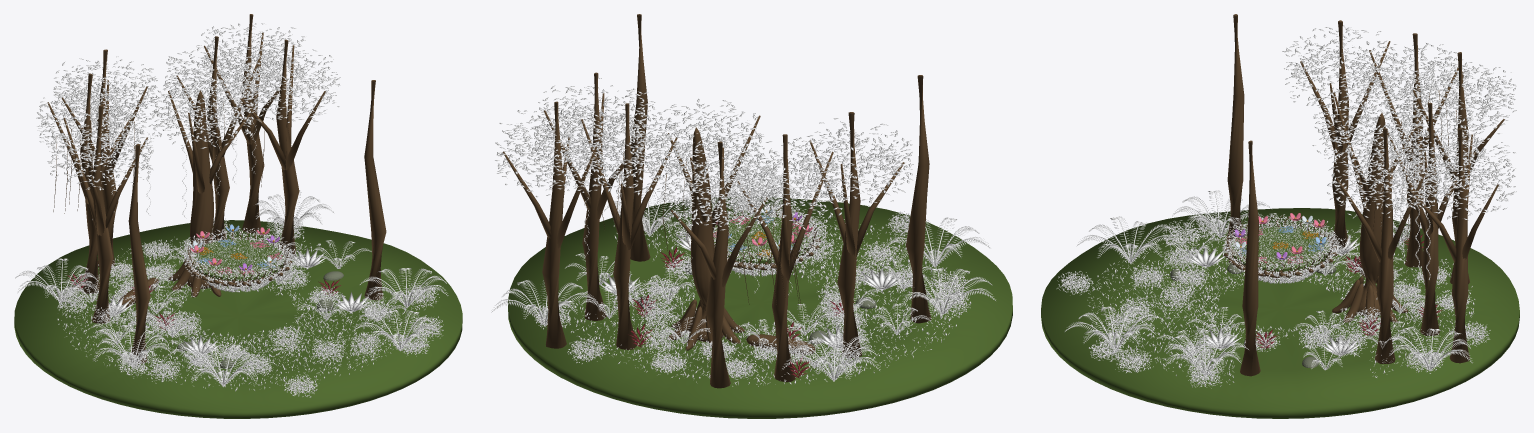
The picture shows the model from 3 angles, left to right: view 1: azimuth 30°, elevation 25°; view 2: azimuth 150°, elevation 25°; view 3: azimuth 270°, elevation 25°; orthographic projection. The views are drawn at different scales.
Visible parts, largest first — view 1: TERRAIN_finite_working_domain, CANOPY_foliage_06, CANOPY_foliage_04, CANOPY_foliage_03, CANOPY_foliage_02, CANOPY_foliage_01, CANOPY_foliage_00, ISLAND_moss_bedding_inferred, CANOPY_foliage_05, TREE_main_trunk, TREE_background_04, TREE_background_05 (+40 smaller); view 2: TERRAIN_finite_working_domain, CANOPY_foliage_04, CANOPY_foliage_01, CANOPY_foliage_00, CANOPY_foliage_02, CANOPY_foliage_05, CANOPY_foliage_06, TREE_background_05, TREE_background_07, TREE_background_01, CANOPY_foliage_03, TREE_main_trunk (+38 smaller); view 3: TERRAIN_finite_working_domain, CANOPY_foliage_03, CANOPY_foliage_05, CANOPY_foliage_01, CANOPY_foliage_04, CANOPY_foliage_06, CANOPY_foliage_00, TREE_background_04, CANOPY_foliage_02, TREE_background_03, TREE_main_trunk, TREE_background_07 (+37 smaller).
Boxes of the visible parts, <box> form: TERRAIN_finite_working_domain: <box>14,220,462,418</box>; CANOPY_foliage_06: <box>148,76,253,148</box>; CANOPY_foliage_04: <box>47,110,154,191</box>; CANOPY_foliage_03: <box>233,46,340,123</box>; CANOPY_foliage_02: <box>163,42,270,120</box>; CANOPY_foliage_01: <box>53,56,159,136</box>; CANOPY_foliage_00: <box>36,78,144,160</box>; ISLAND_moss_bedding_inferred: <box>191,239,285,280</box>; CANOPY_foliage_05: <box>197,23,305,98</box>; TREE_main_trunk: <box>187,90,217,288</box>; TREE_background_04: <box>364,80,386,300</box>; TREE_background_05: <box>128,144,150,364</box>; TERRAIN_finite_working_domain: <box>508,196,1012,418</box>; CANOPY_foliage_04: <box>792,118,913,206</box>; CANOPY_foliage_01: <box>659,148,781,232</box>; CANOPY_foliage_00: <box>723,141,845,230</box>; CANOPY_foliage_02: <box>566,112,687,195</box>; CANOPY_foliage_05: <box>495,107,616,197</box>; CANOPY_foliage_06: <box>647,99,764,187</box>; TREE_background_05: <box>906,75,931,323</box>; TREE_background_07: <box>542,101,566,348</box>; TREE_background_01: <box>705,141,730,388</box>; CANOPY_foliage_03: <box>534,78,656,168</box>; TREE_main_trunk: <box>688,127,723,341</box>; TERRAIN_finite_working_domain: <box>1041,208,1519,418</box>; CANOPY_foliage_03: <box>1327,134,1442,219</box>; CANOPY_foliage_05: <box>1402,134,1516,220</box>; CANOPY_foliage_01: <box>1402,58,1516,141</box>; CANOPY_foliage_04: <box>1282,25,1397,109</box>; CANOPY_foliage_06: <box>1312,88,1428,171</box>; CANOPY_foliage_00: <box>1356,43,1472,125</box>; TREE_background_04: <box>1240,140,1260,376</box>; CANOPY_foliage_02: <box>1372,112,1488,193</box>; TREE_background_03: <box>1375,128,1395,363</box>; TREE_main_trunk: <box>1357,113,1385,316</box>; TREE_background_07: <box>1449,128,1469,363</box>.
Size of the model in its own units: 32 by 17.66 by 32.
